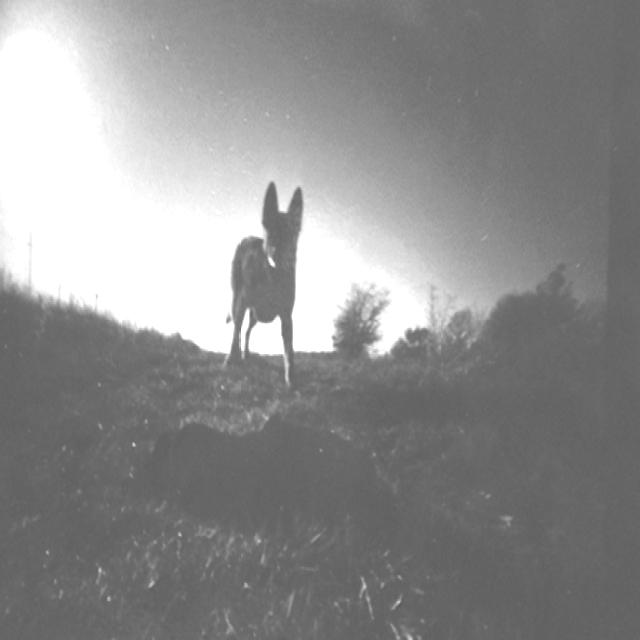Dog: (228, 182, 302, 388)
